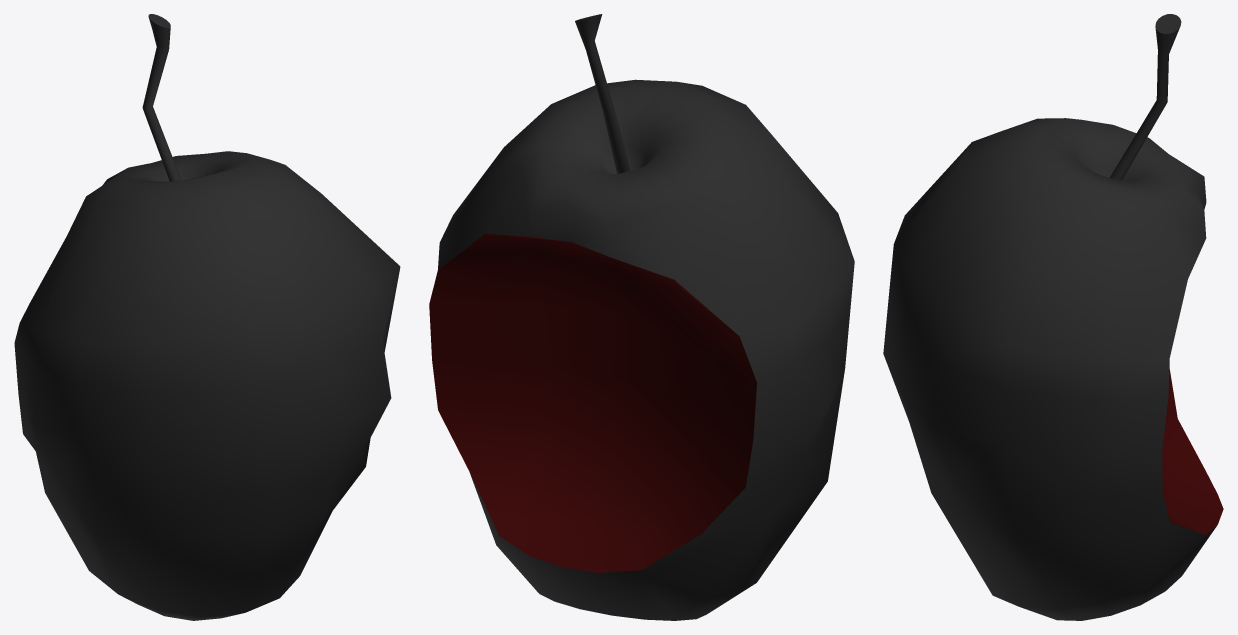
File: AppleBad_02.fbx
The picture shows the model from 3 angles, left to right: view 1: azimuth 30°, elevation 25°; view 2: azimuth 150°, elevation 25°; view 3: azimuth 270°, elevation 25°; orthographic projection. The views are drawn at different scales.
Parts seen in each view (by area): view 1: AppleBad_02; view 2: AppleBad_02; view 3: AppleBad_02.
Part boxes in pixels (x1,y1,x2,y2): AppleBad_02: [14, 14, 400, 620]; AppleBad_02: [429, 14, 854, 620]; AppleBad_02: [883, 14, 1223, 620].
Bounding box in the file's own units: 143 × 230 × 121.
